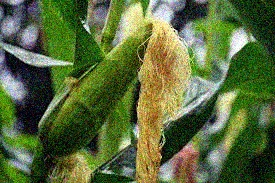corn_plant: (47, 14, 184, 154)
